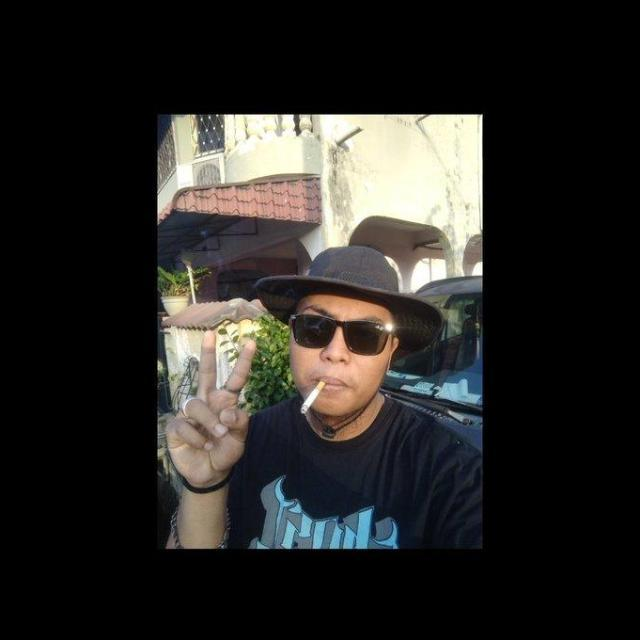rokok: (299, 378, 327, 416)
